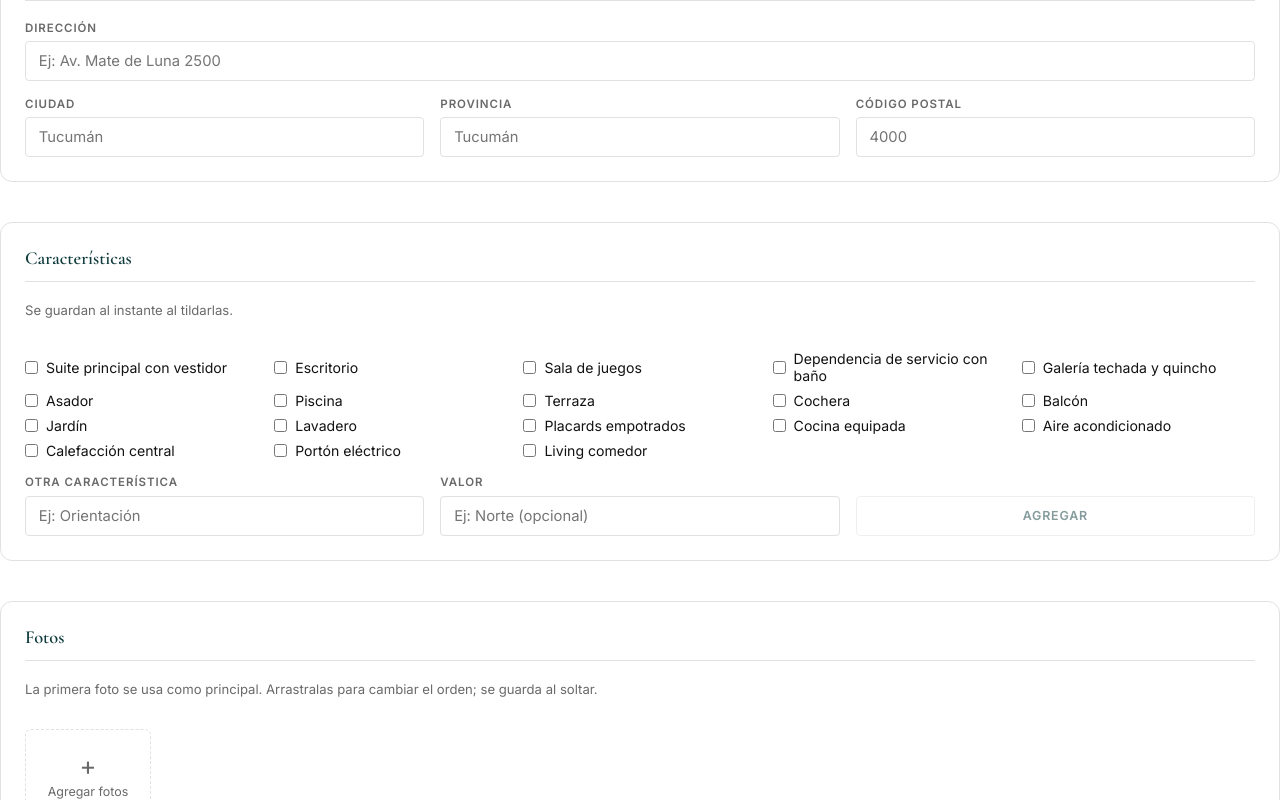
mientras se guarda no se puede tildar otra
The width and height of the screenshot is (1280, 800).
(page scrolled)
What coordinates should you click on to do the following:
click the checkbox labelled "Asador"
I would click on:
 (32, 401)
Its box is [25,394,38,407].
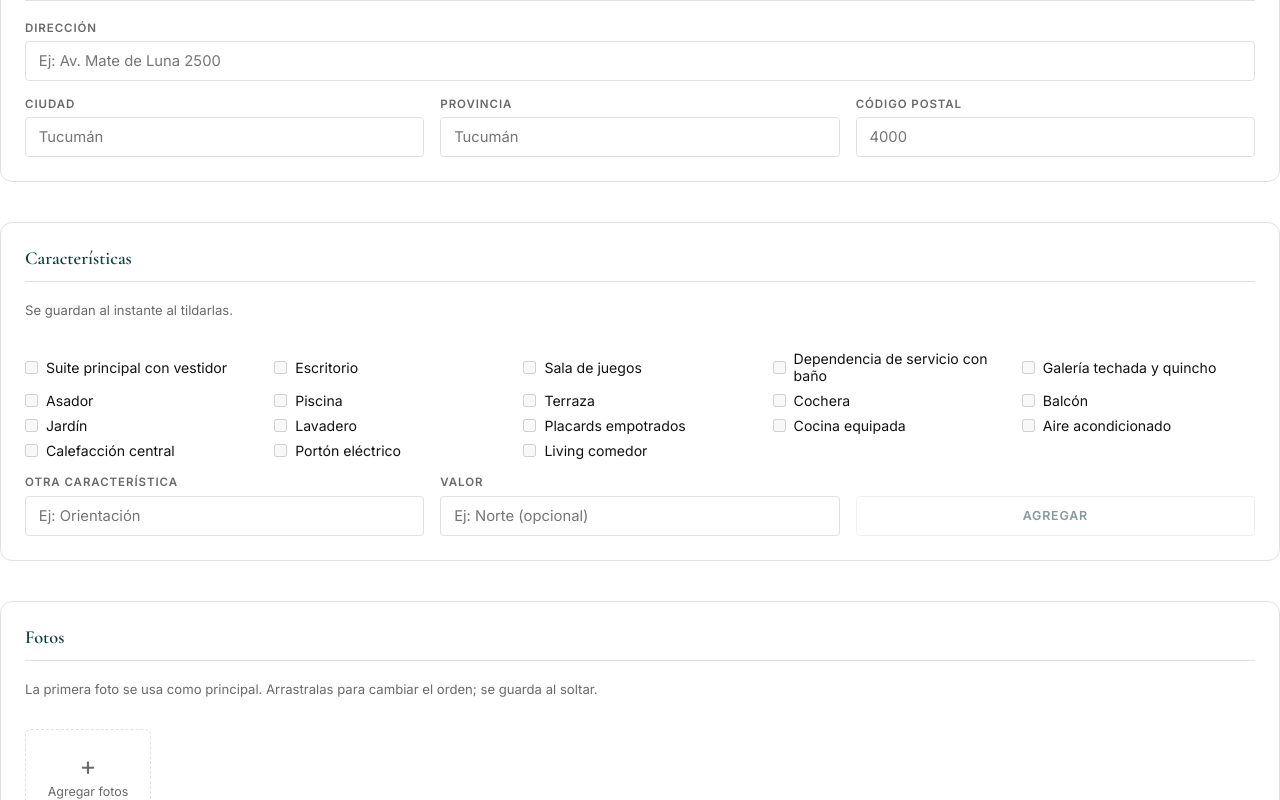
Check: the button "Agregar" is disabled, box [856,496,1255,536]
Check: the checkbox labelled "Asador" is disabled, box [25,394,38,407]
Check: the checkbox labelled "Piscina" is disabled
What coordinates should you click on to do the following:
click the checkbox labelled "Piscina"
I would click on:
 (281, 401)
Its box is [274,394,287,407].
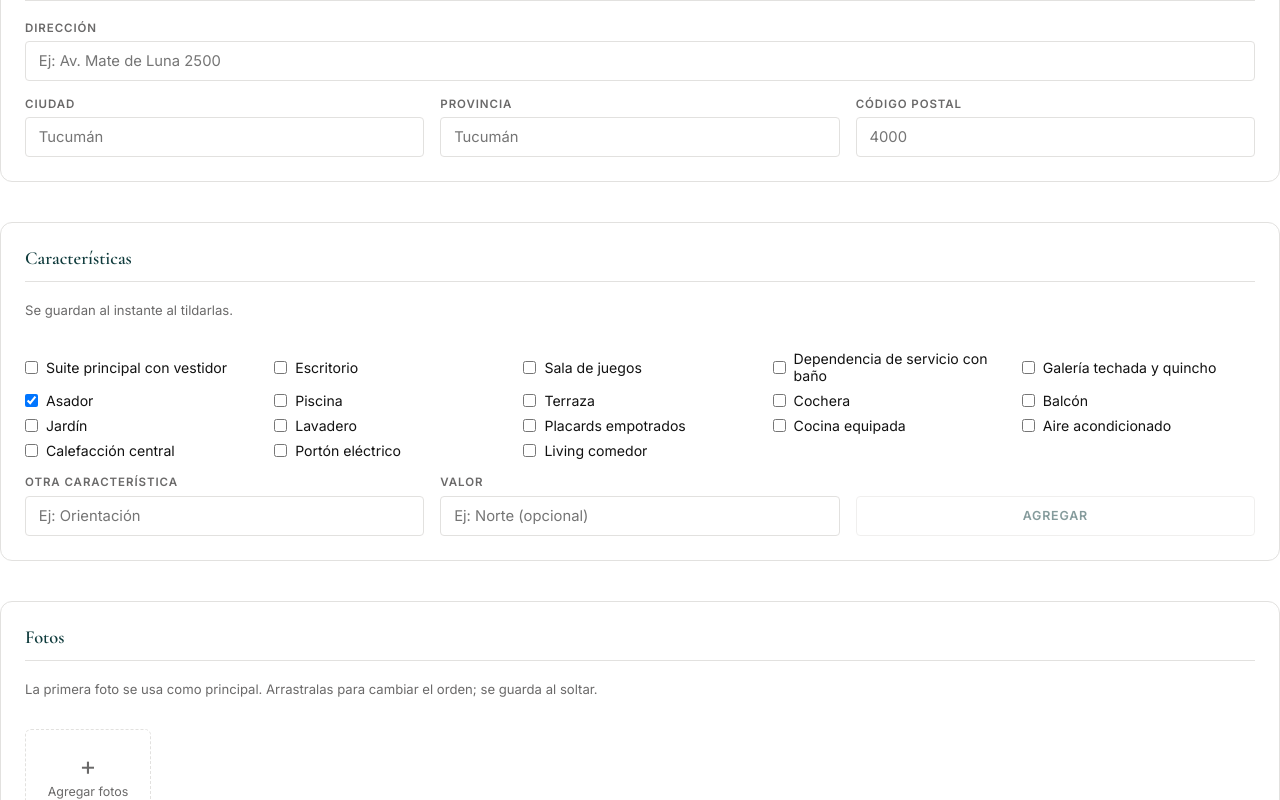
Check: the checkbox labelled "Asador" is enabled, box [25,394,38,407]
Check: the checkbox labelled "Piscina" is enabled, box [274,394,287,407]
